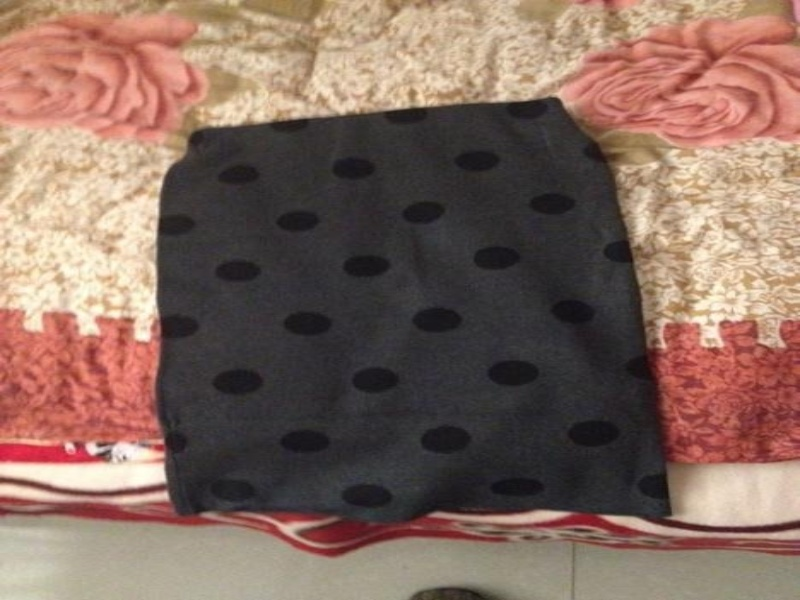skirt: (152, 97, 675, 525)
